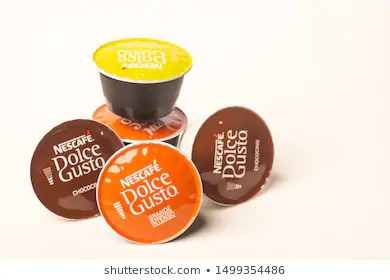nescafe-dolce: (97, 141, 201, 248), (31, 112, 120, 224), (196, 105, 278, 207), (90, 33, 199, 93), (91, 105, 188, 145)
